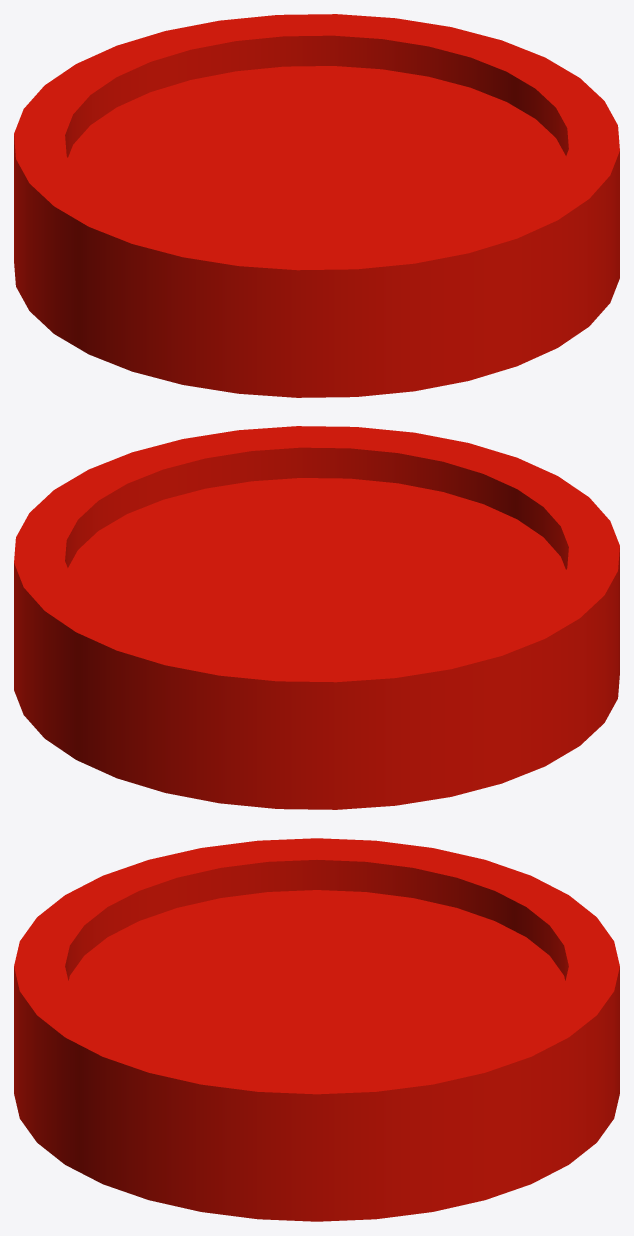
The model's file is checker_red.gltf.
3 views of the same model, one above another, from view 1: azimuth 30°, elevation 25°; view 2: azimuth 150°, elevation 25°; view 3: azimuth 270°, elevation 25° (orthographic).
Visible parts, largest first — view 1: Checker; view 2: Checker; view 3: Checker.
Part boxes in pixels (bbox=[...]): Checker: bbox=[14, 14, 619, 397]; Checker: bbox=[14, 426, 619, 809]; Checker: bbox=[14, 838, 619, 1221].
Bounding box in the file's own units: 2 × 0.464 × 2.
